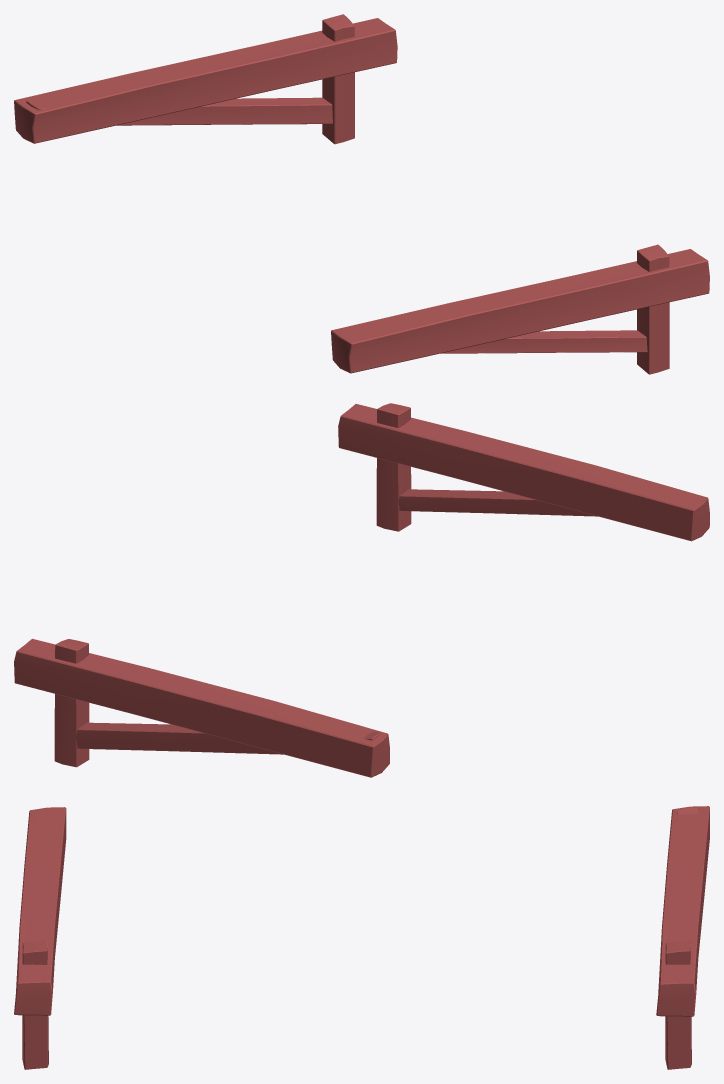
Rendered from Shelf_Grp_03B_Lod0.fbx.
3 views of the same model, one above another, from view 1: azimuth 30°, elevation 25°; view 2: azimuth 150°, elevation 25°; view 3: azimuth 270°, elevation 25° (orthographic). The views are drawn at different scales.
Parts seen in each view (by area): view 1: Shelf_Grp_03B_Lod0; view 2: Shelf_Grp_03B_Lod0; view 3: Shelf_Grp_03B_Lod0.
Part boxes in pixels (bbox=[...]): Shelf_Grp_03B_Lod0: bbox=[14, 14, 709, 374]; Shelf_Grp_03B_Lod0: bbox=[14, 403, 709, 777]; Shelf_Grp_03B_Lod0: bbox=[14, 806, 709, 1069].
Bounding box in the file's own units: 134 × 41.6 × 220.
